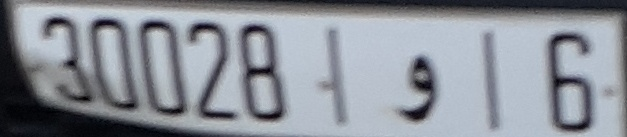0: (136, 20, 187, 118), (89, 16, 139, 110)
2: (189, 21, 237, 126)
3: (41, 15, 92, 106)
6: (543, 27, 598, 133)
8: (235, 21, 288, 125)
waw: (391, 50, 441, 125)
